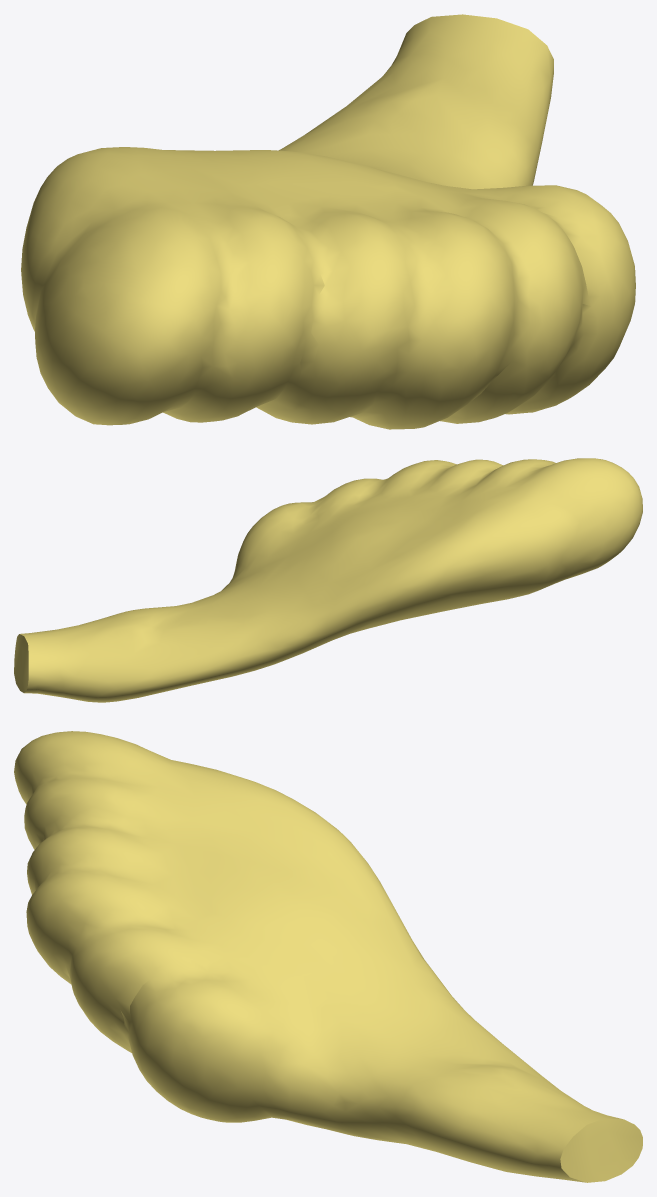
The model's file is flocculus-r.glb.
3 views of the same model, one above another, from view 1: azimuth 30°, elevation 25°; view 2: azimuth 150°, elevation 25°; view 3: azimuth 270°, elevation 25° (orthographic). The views are drawn at different scales.
Parts seen in each view (by area): view 1: Flocculus.r; view 2: Flocculus.r; view 3: Flocculus.r.
Part boxes in pixels (x1,y1,x2,y2): Flocculus.r: (21,14,635,429); Flocculus.r: (14,458,642,702); Flocculus.r: (14,731,642,1182).
Bounding box in the file's own units: 0.0184 × 0.00746 × 0.0177.
